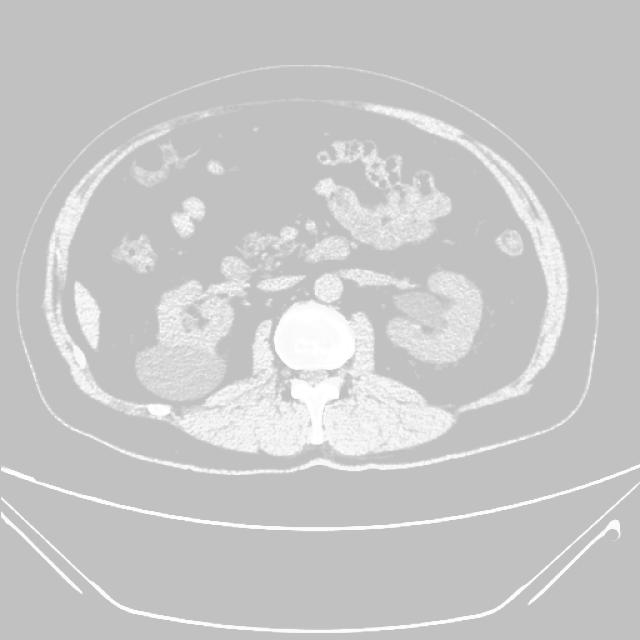cysts: (38, 86, 577, 469)
